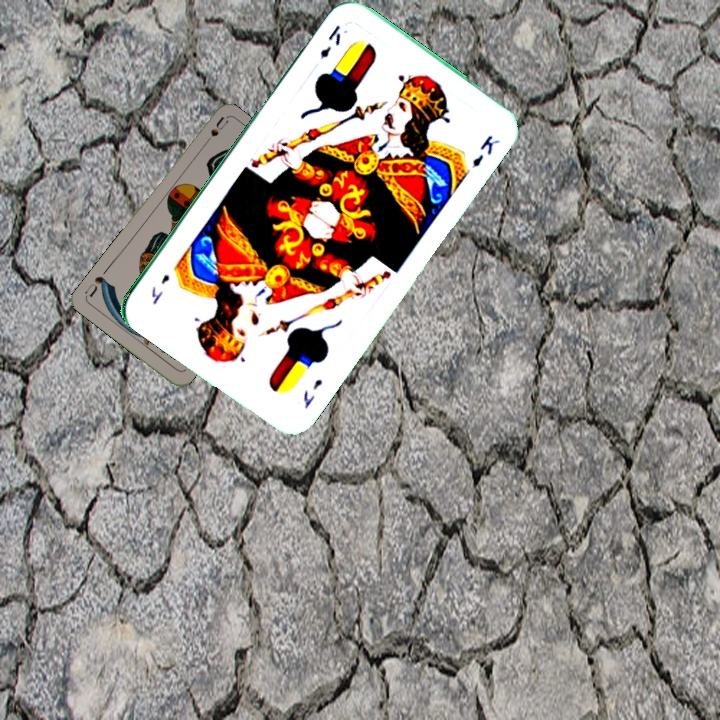EK: (315, 20, 344, 61), (299, 375, 325, 411)
SU: (199, 114, 230, 150)
